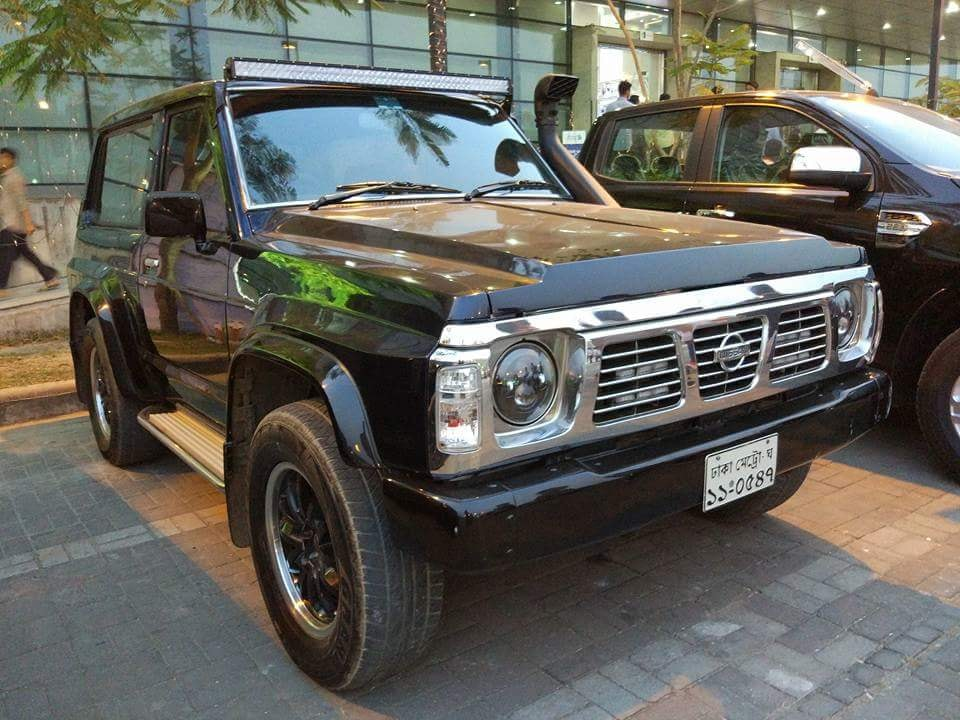registration_plate: (702, 432, 780, 512)
